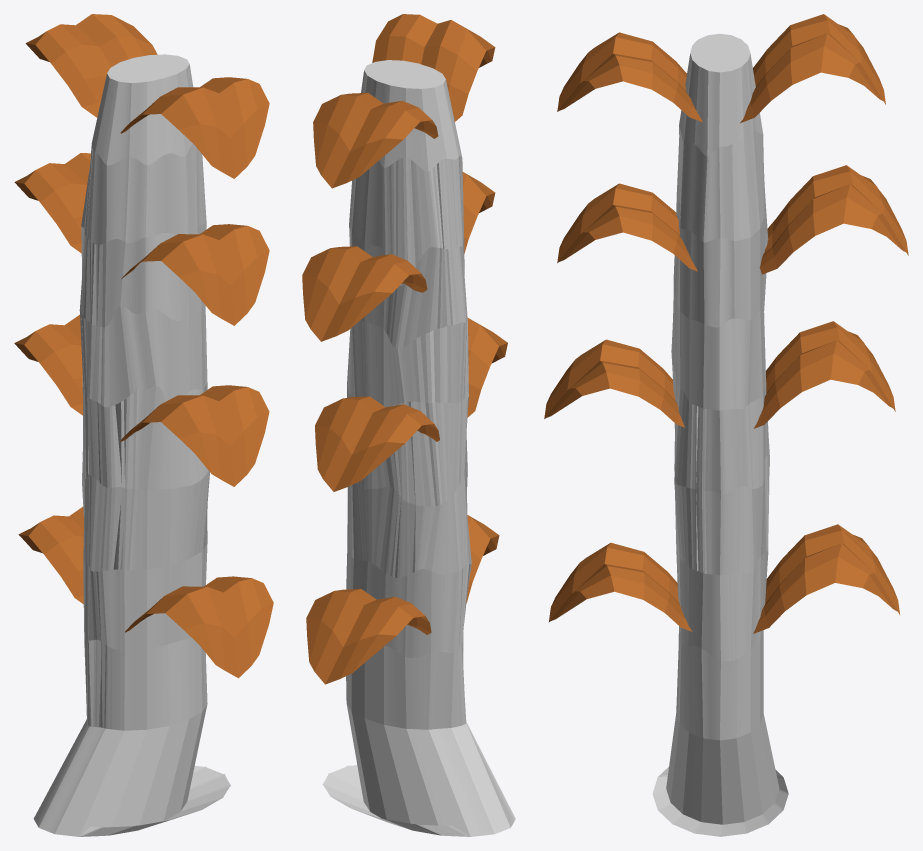
Rendered from Seeding_Died.fbx.
3 views of the same model, side by side, from view 1: azimuth 30°, elevation 25°; view 2: azimuth 150°, elevation 25°; view 3: azimuth 270°, elevation 25° (orthographic). The views are drawn at different scales.
Visible parts, largest first — view 1: Plane.007; view 2: Plane.007; view 3: Plane.007.
Boxes of the visible parts, box(x1,y1,x2,y2) form: Plane.007: box(14, 14, 273, 836); Plane.007: box(302, 14, 515, 836); Plane.007: box(544, 14, 908, 836).
Bounding box in the file's own units: 405 × 1568 × 670.
